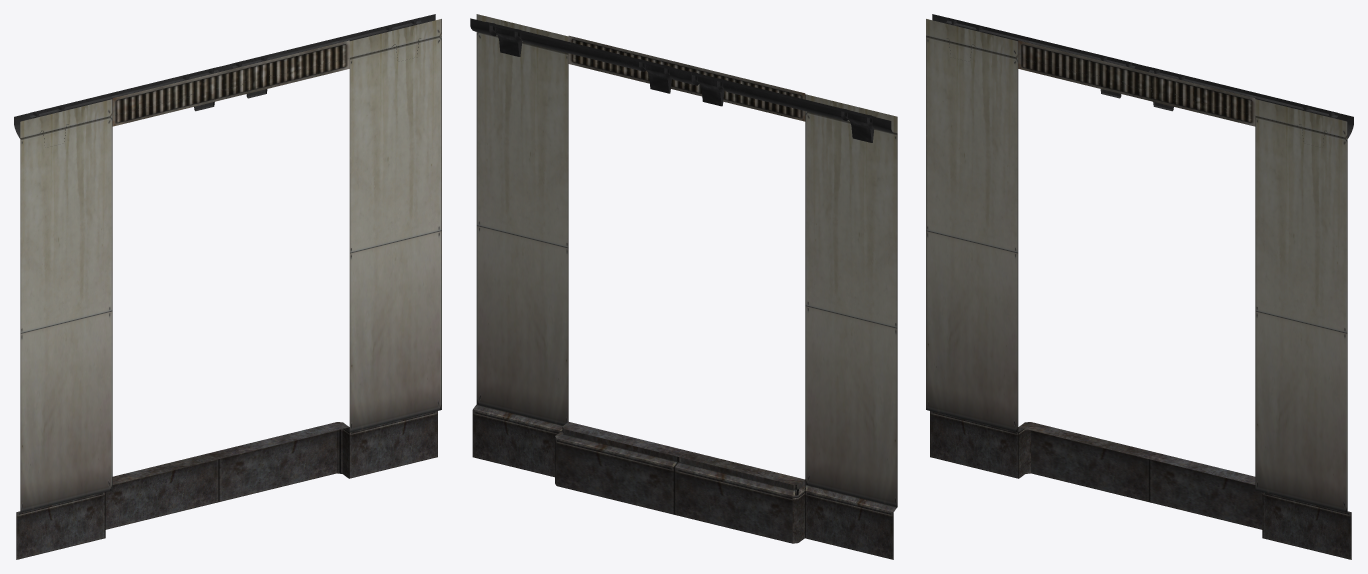
Rendered from lab_doorway_elevated.dae.
The picture shows the model from 3 angles, left to right: view 1: azimuth 30°, elevation 25°; view 2: azimuth 150°, elevation 25°; view 3: azimuth 330°, elevation 25°; orthographic projection.
Visible parts, largest first — view 1: lab_doorway_elevated; view 2: lab_doorway_elevated; view 3: lab_doorway_elevated.
Boxes of the visible parts, <box> form: lab_doorway_elevated: <box>14,14,441,559</box>; lab_doorway_elevated: <box>470,14,897,559</box>; lab_doorway_elevated: <box>926,14,1353,559</box>.
Size of the model in its own units: 4 by 4.01 by 0.2071.
